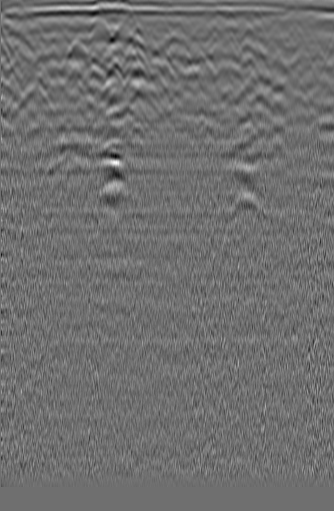가스: (86, 148, 131, 180)
상수: (5, 42, 30, 69)
오수: (302, 49, 333, 79)
우수: (126, 21, 151, 49)
